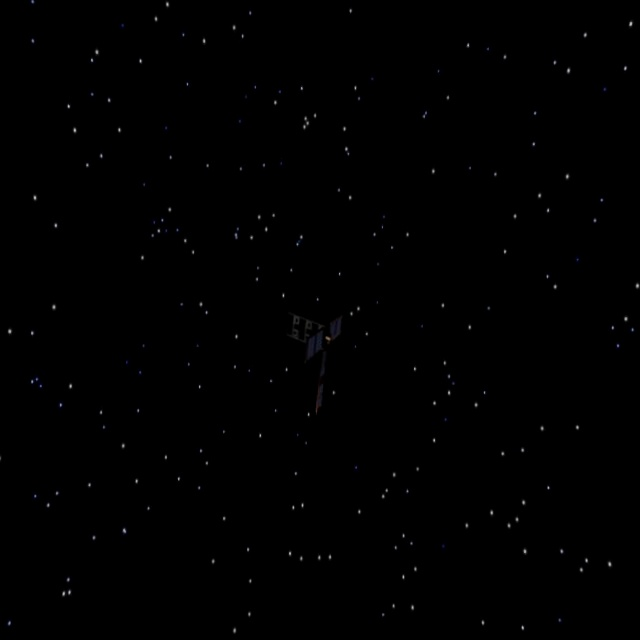medium_debris: (281, 283, 387, 415)
